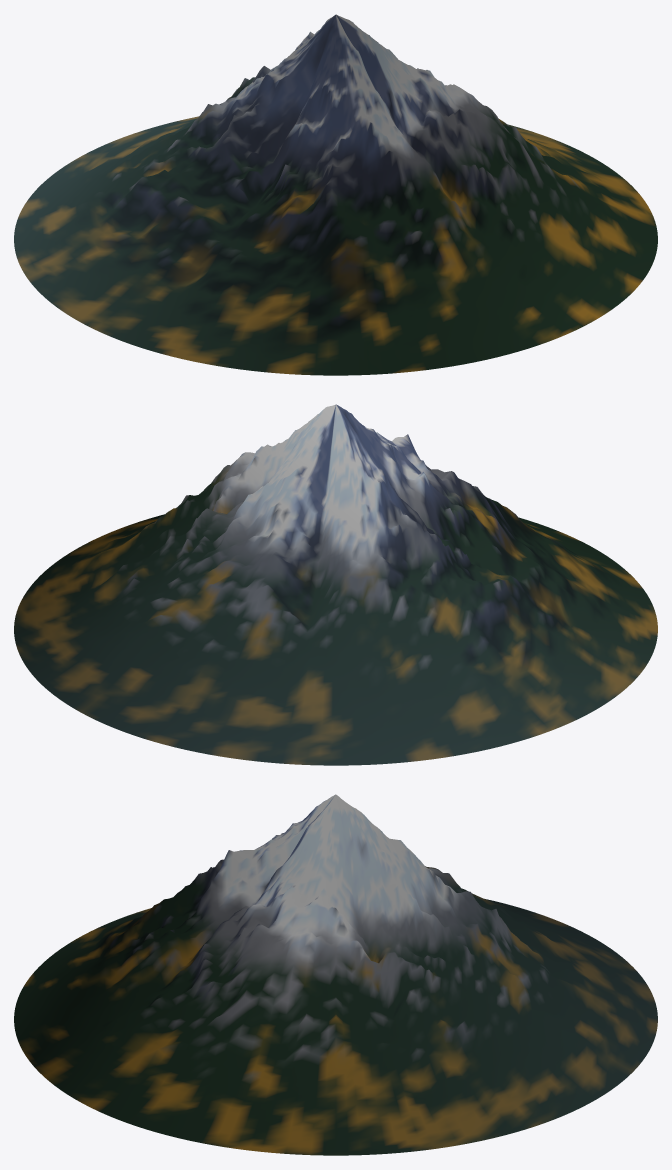
3 views of the same model, one above another, from view 1: azimuth 30°, elevation 25°; view 2: azimuth 150°, elevation 25°; view 3: azimuth 270°, elevation 25° (orthographic).
Parts seen in each view (by area): view 1: L4_3_Peak8; view 2: L4_3_Peak8; view 3: L4_3_Peak8.
Part boxes in pixels (x1,y1,x2,y2): L4_3_Peak8: (14,14,657,375); L4_3_Peak8: (14,404,657,765); L4_3_Peak8: (14,794,657,1155).
Bounding box in the file's own units: 1400 × 540 × 1400.
